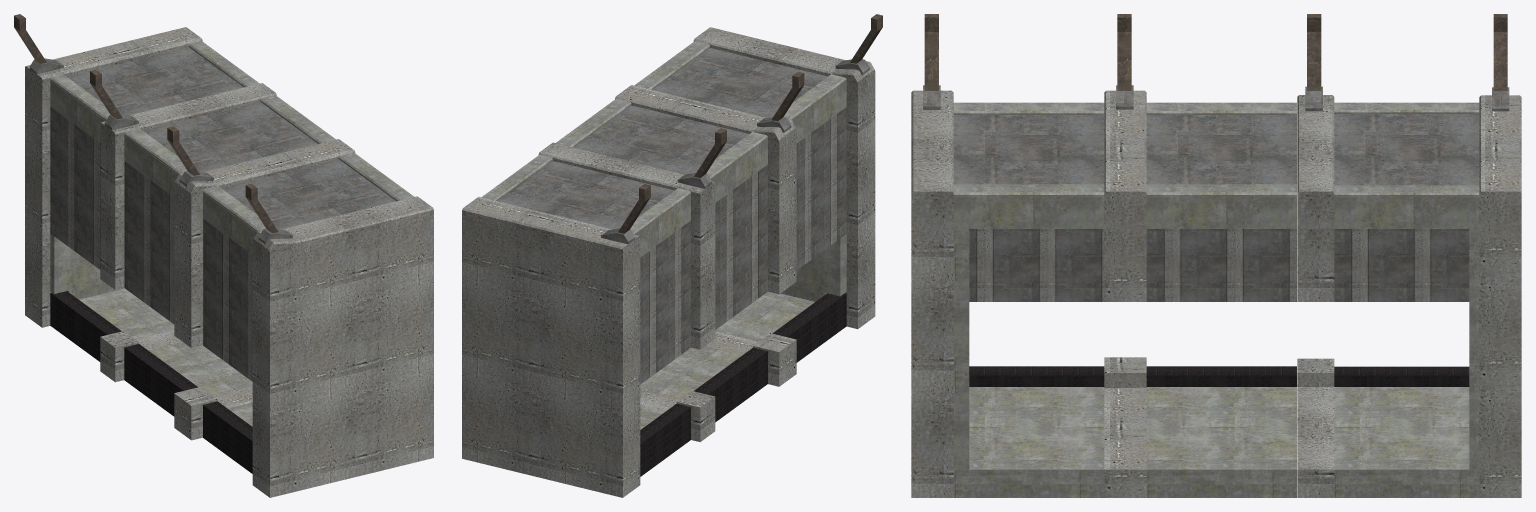
The model's file is block3_hollow.fbx.
The picture shows the model from 3 angles, left to right: view 1: azimuth 30°, elevation 25°; view 2: azimuth 150°, elevation 25°; view 3: azimuth 270°, elevation 25°; orthographic projection. The views are drawn at different scales.
Visible parts, largest first — view 1: Object; view 2: Object; view 3: Object.
Boxes of the visible parts, <box> form: Object: <box>14,14,433,497</box>; Object: <box>462,14,882,497</box>; Object: <box>911,14,1521,497</box>.
Bounding box in the file's own units: 3212 × 5338 × 7812.
